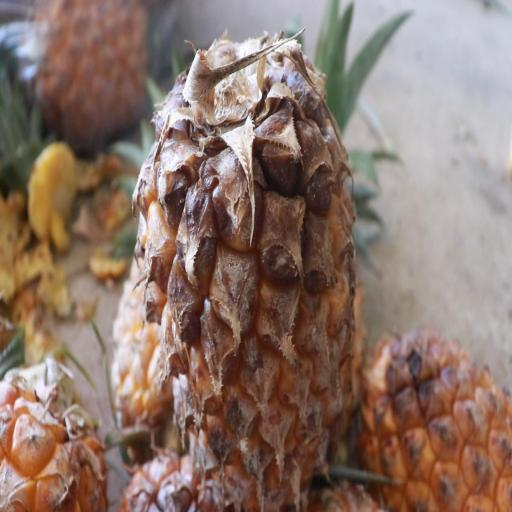Pineapple - v8 v1: (130, 31, 360, 509), (354, 329, 512, 512)
